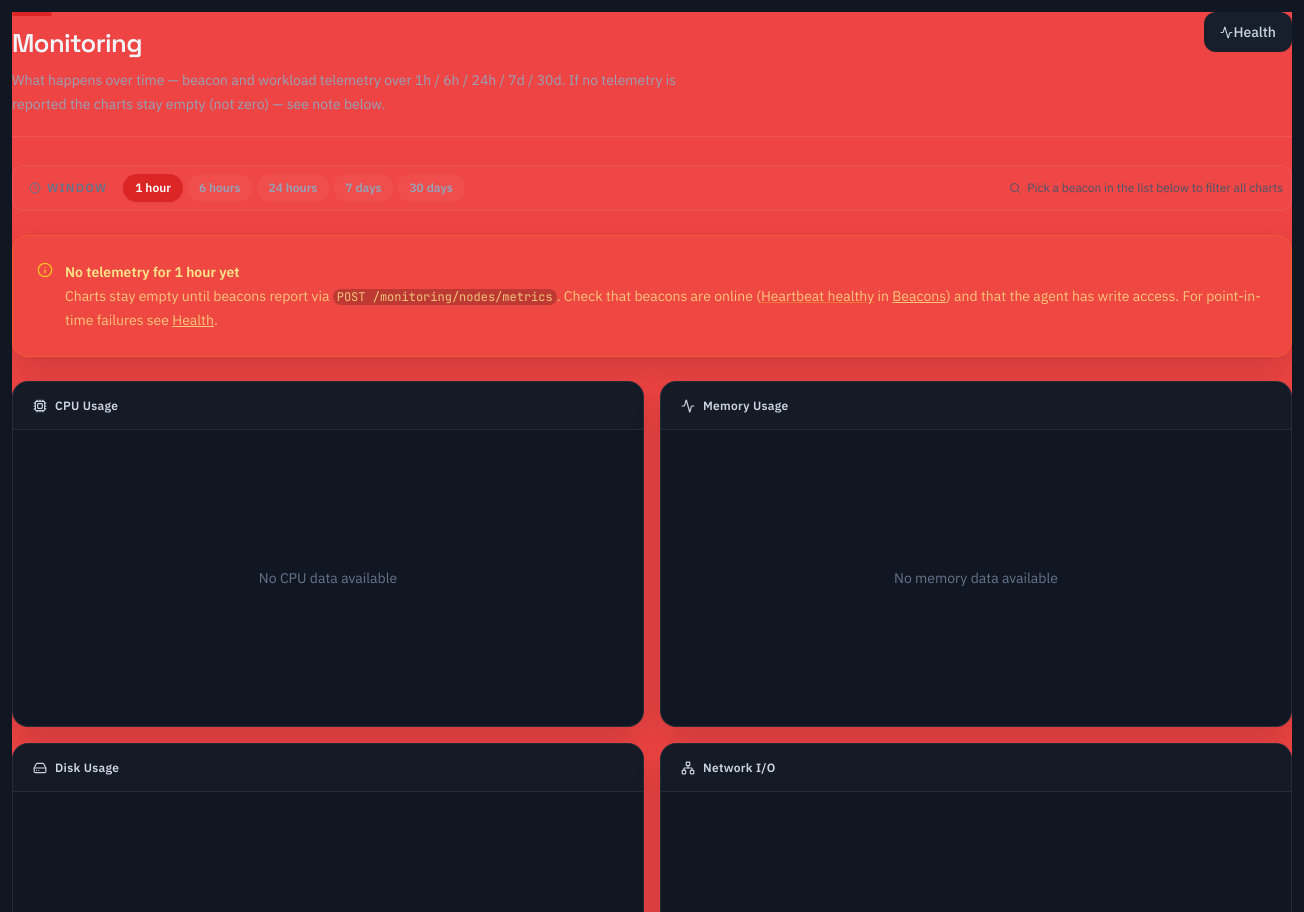
Test: AdminMonitoring — time-series and telemetry › allows switching time window
The width and height of the screenshot is (1304, 912).
Expected: the text "No telemetry for 1 hour yet" is shown, [65,263,240,281]
Click the button "6 hours" at (220, 188), box [187,174,252,202]
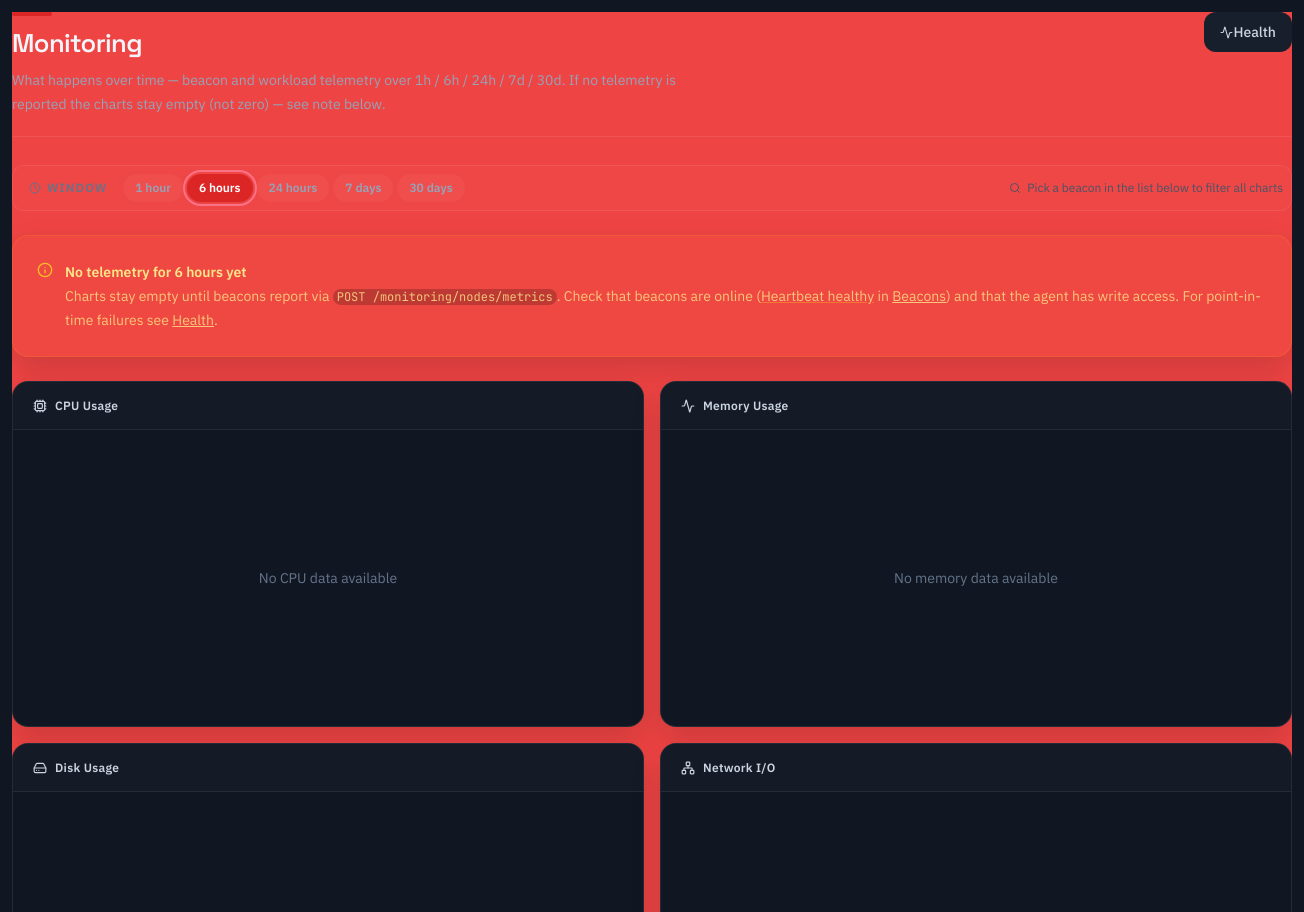
Now the text "No telemetry for 6 hours yet" is shown, box [65,263,247,281]
